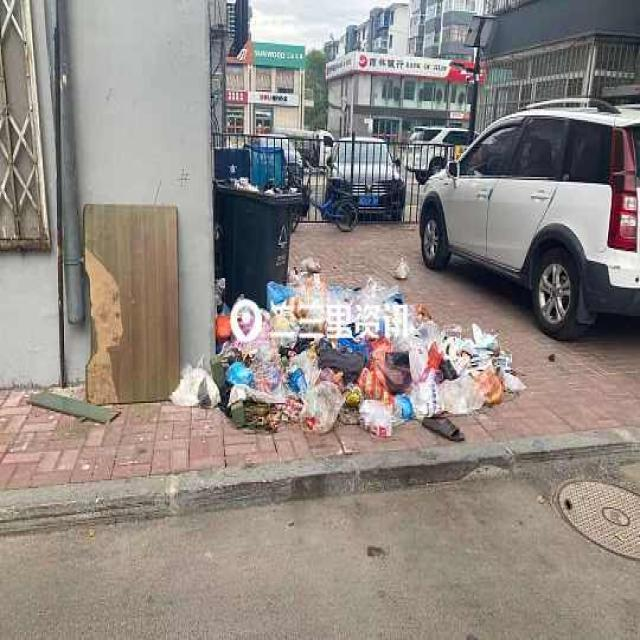garbage: (168, 255, 525, 442)
overflow: (213, 176, 301, 308)
